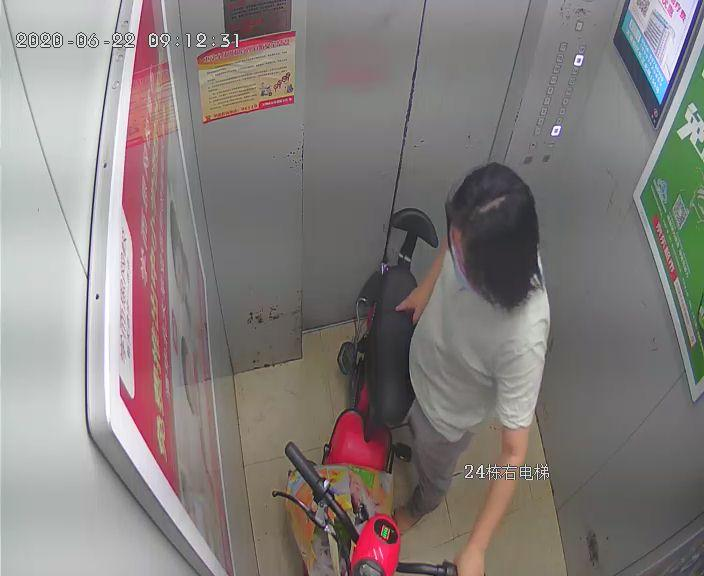Electric-bicycle: (270, 206, 456, 575)
